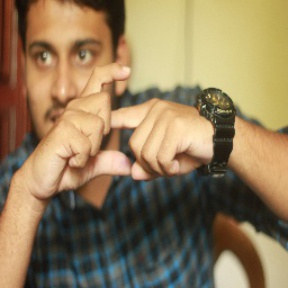E: (66, 63, 150, 185)
